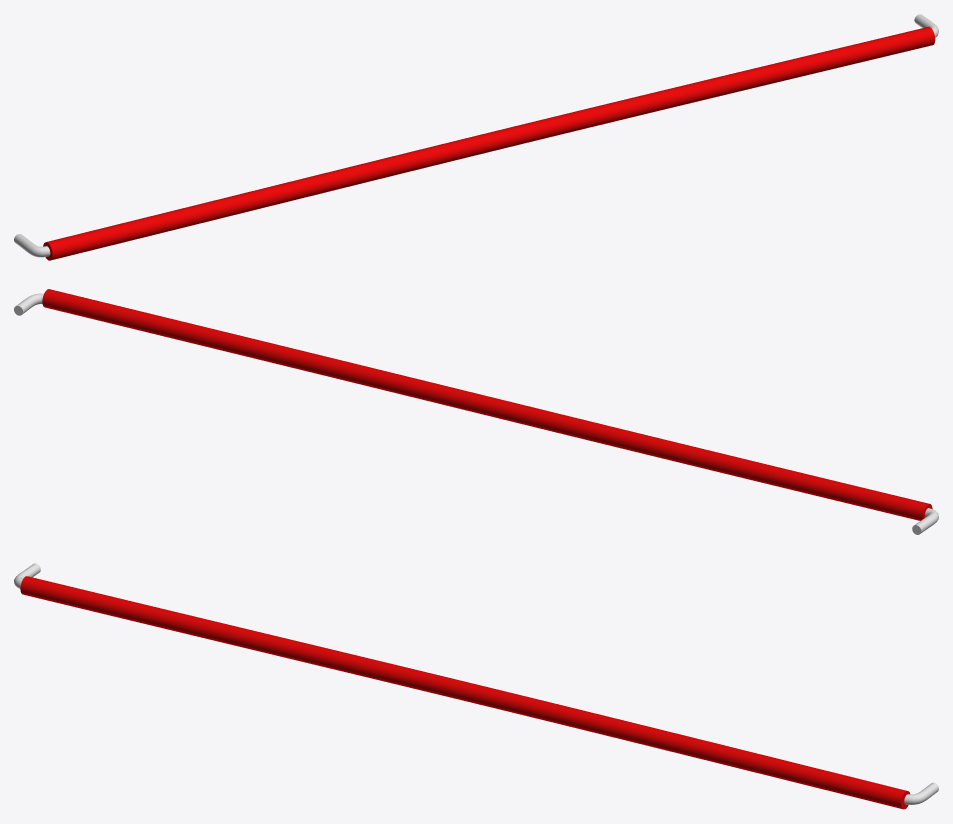
File: cable.fbx
3 views of the same model, one above another, from view 1: azimuth 30°, elevation 25°; view 2: azimuth 150°, elevation 25°; view 3: azimuth 330°, elevation 25° (orthographic).
Visible parts, largest first — view 1: Cable ext, Cable int; view 2: Cable ext, Cable int; view 3: Cable ext, Cable int.
Part boxes in pixels (x1,y1,x2,y2): Cable ext: (43, 26, 935, 260); Cable int: (14, 14, 938, 257); Cable ext: (42, 289, 932, 520); Cable int: (14, 293, 938, 534); Cable ext: (20, 576, 909, 809); Cable int: (14, 563, 938, 804).
Bounding box in the file's own units: 5.96 × 0.1119 × 0.2832.
